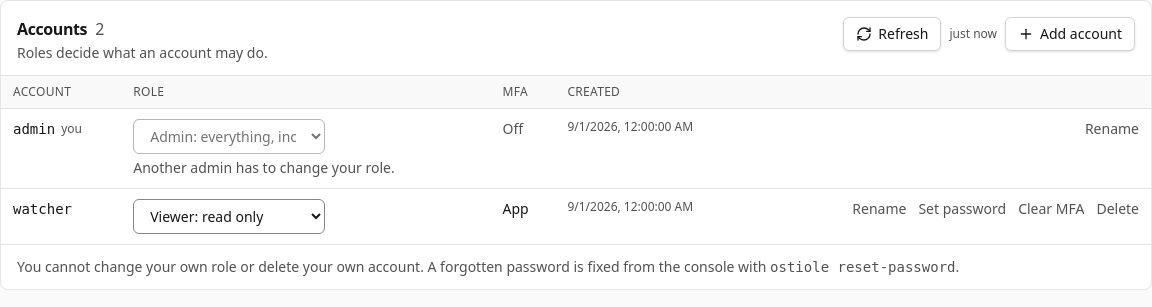
Test: AccountsSection › clears another account's MFA once the confirm says yes
Click the button "Clear MFA" at coordinates (1051, 209), box [1018, 199, 1084, 219]
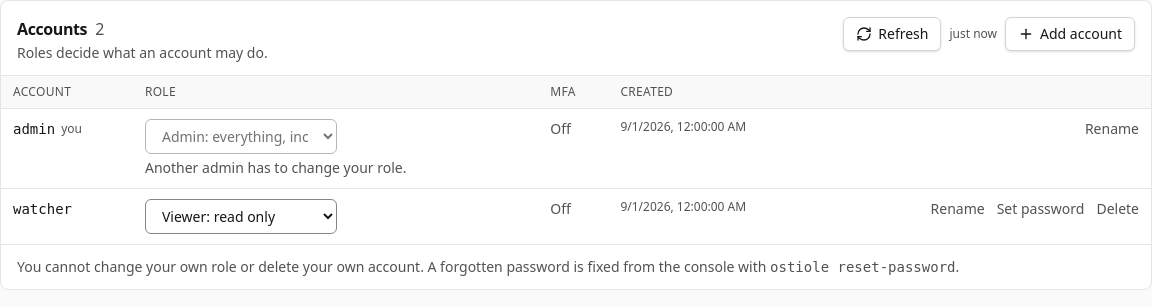
Check: the cell "Off" in the row of "watcher" is shown, box [550, 199, 571, 218]
